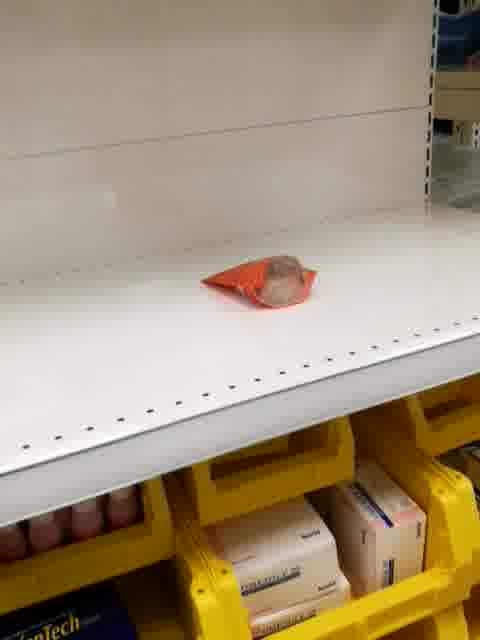whitechia: (197, 252, 320, 311)
